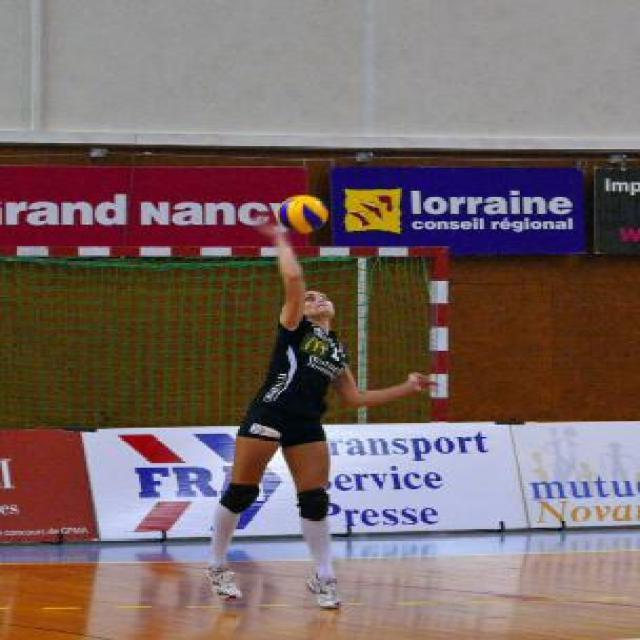volleyball: (278, 194, 328, 234)
